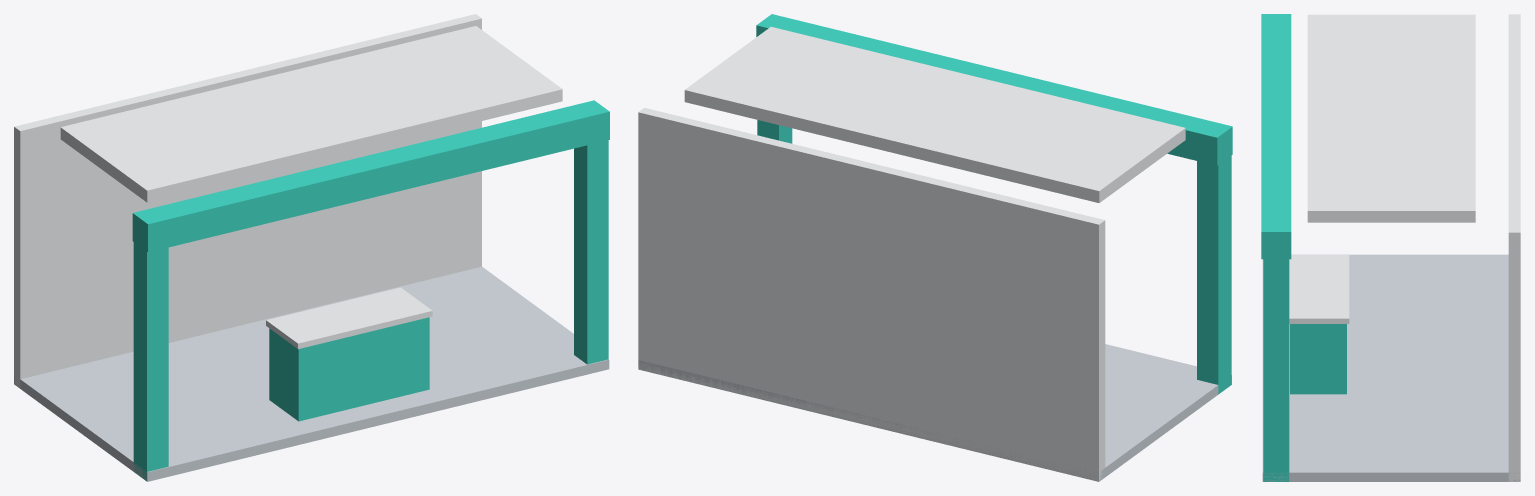
3 views of the same model, side by side, from view 1: azimuth 30°, elevation 25°; view 2: azimuth 150°, elevation 25°; view 3: azimuth 270°, elevation 25° (orthographic). The views are drawn at different scales.
Parts seen in each view (by area): view 1: Exhibition Booth Concept; view 2: Exhibition Booth Concept; view 3: Exhibition Booth Concept.
Boxes of the visible parts, <box> form: Exhibition Booth Concept: <box>14,14,609,481</box>; Exhibition Booth Concept: <box>638,14,1232,481</box>; Exhibition Booth Concept: <box>1261,14,1520,481</box>.
Bounding box in the file's own units: 6 × 3.34 × 3.01.
